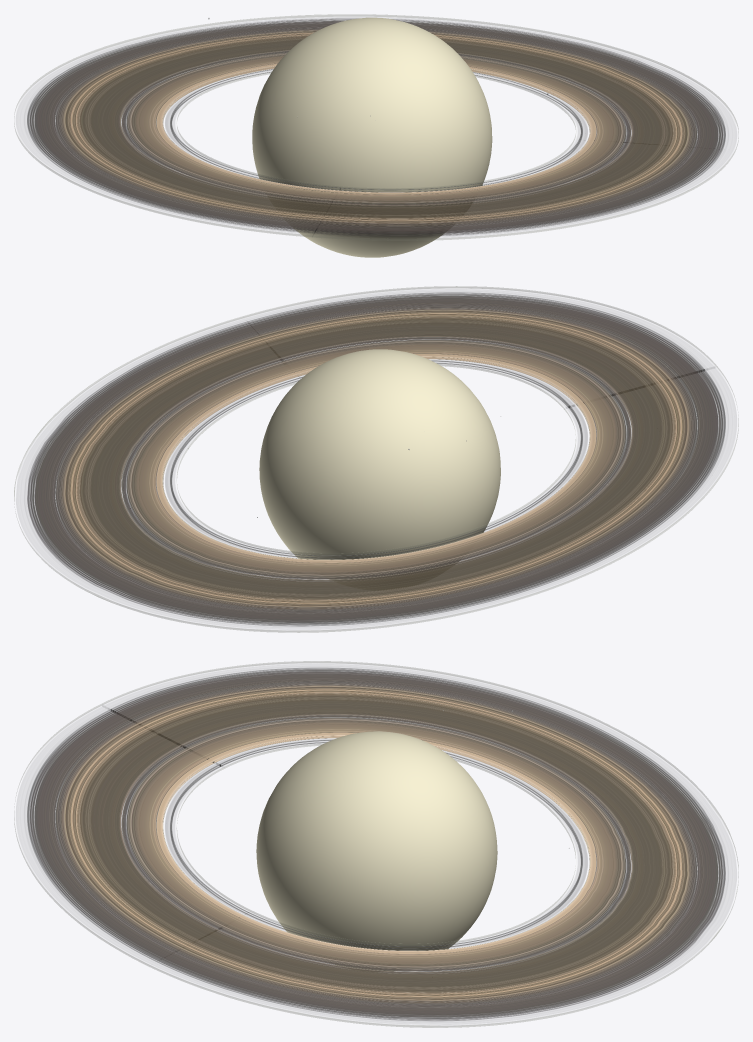
File: saturn.glb
3 renders of one model, top to bottom at view 1: azimuth 30°, elevation 25°; view 2: azimuth 150°, elevation 25°; view 3: azimuth 270°, elevation 25°, orthographic.
Parts seen in each view (by area): view 1: Ring_Mat.1_0, Cloud_Depth_Mat.2_0; view 2: Ring_Mat.1_0, Cloud_Depth_Mat.2_0; view 3: Ring_Mat.1_0, Cloud_Depth_Mat.2_0.
Boxes of the visible parts, bbox=[...] form: Ring_Mat.1_0: bbox=[14, 14, 738, 240]; Cloud_Depth_Mat.2_0: bbox=[252, 17, 492, 257]; Ring_Mat.1_0: bbox=[14, 286, 738, 632]; Cloud_Depth_Mat.2_0: bbox=[259, 349, 500, 581]; Ring_Mat.1_0: bbox=[14, 661, 738, 1027]; Cloud_Depth_Mat.2_0: bbox=[256, 731, 497, 971].
Bounding box in the file's own units: 1775 × 589 × 1773.
4 materials, 3 textured.
